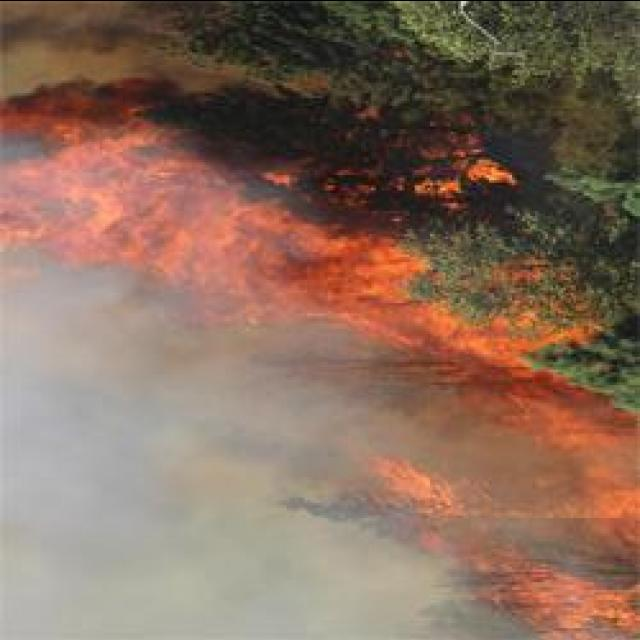smoke: (3, 0, 158, 82), (94, 284, 198, 376), (404, 428, 530, 466)
